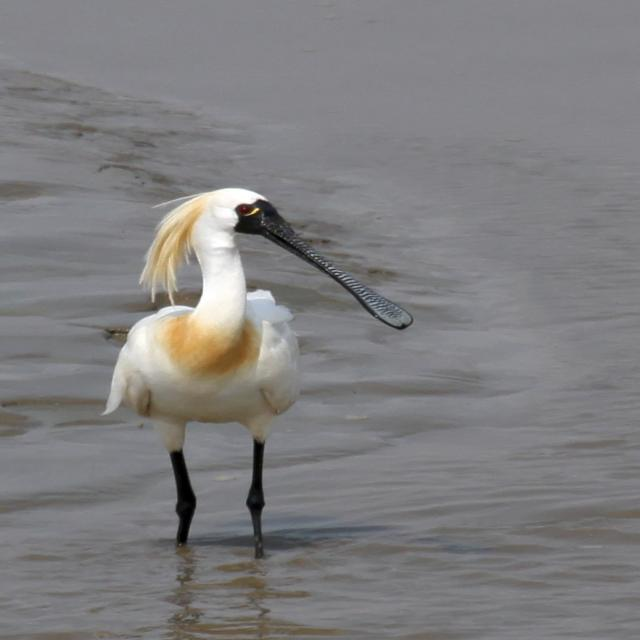Black-faced spoonbill: (105, 189, 412, 557)
